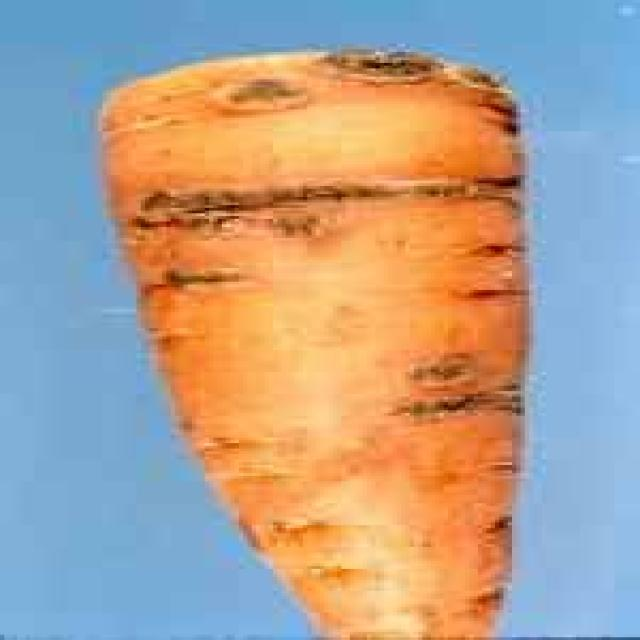Stale_Carrot: (101, 40, 514, 640)
